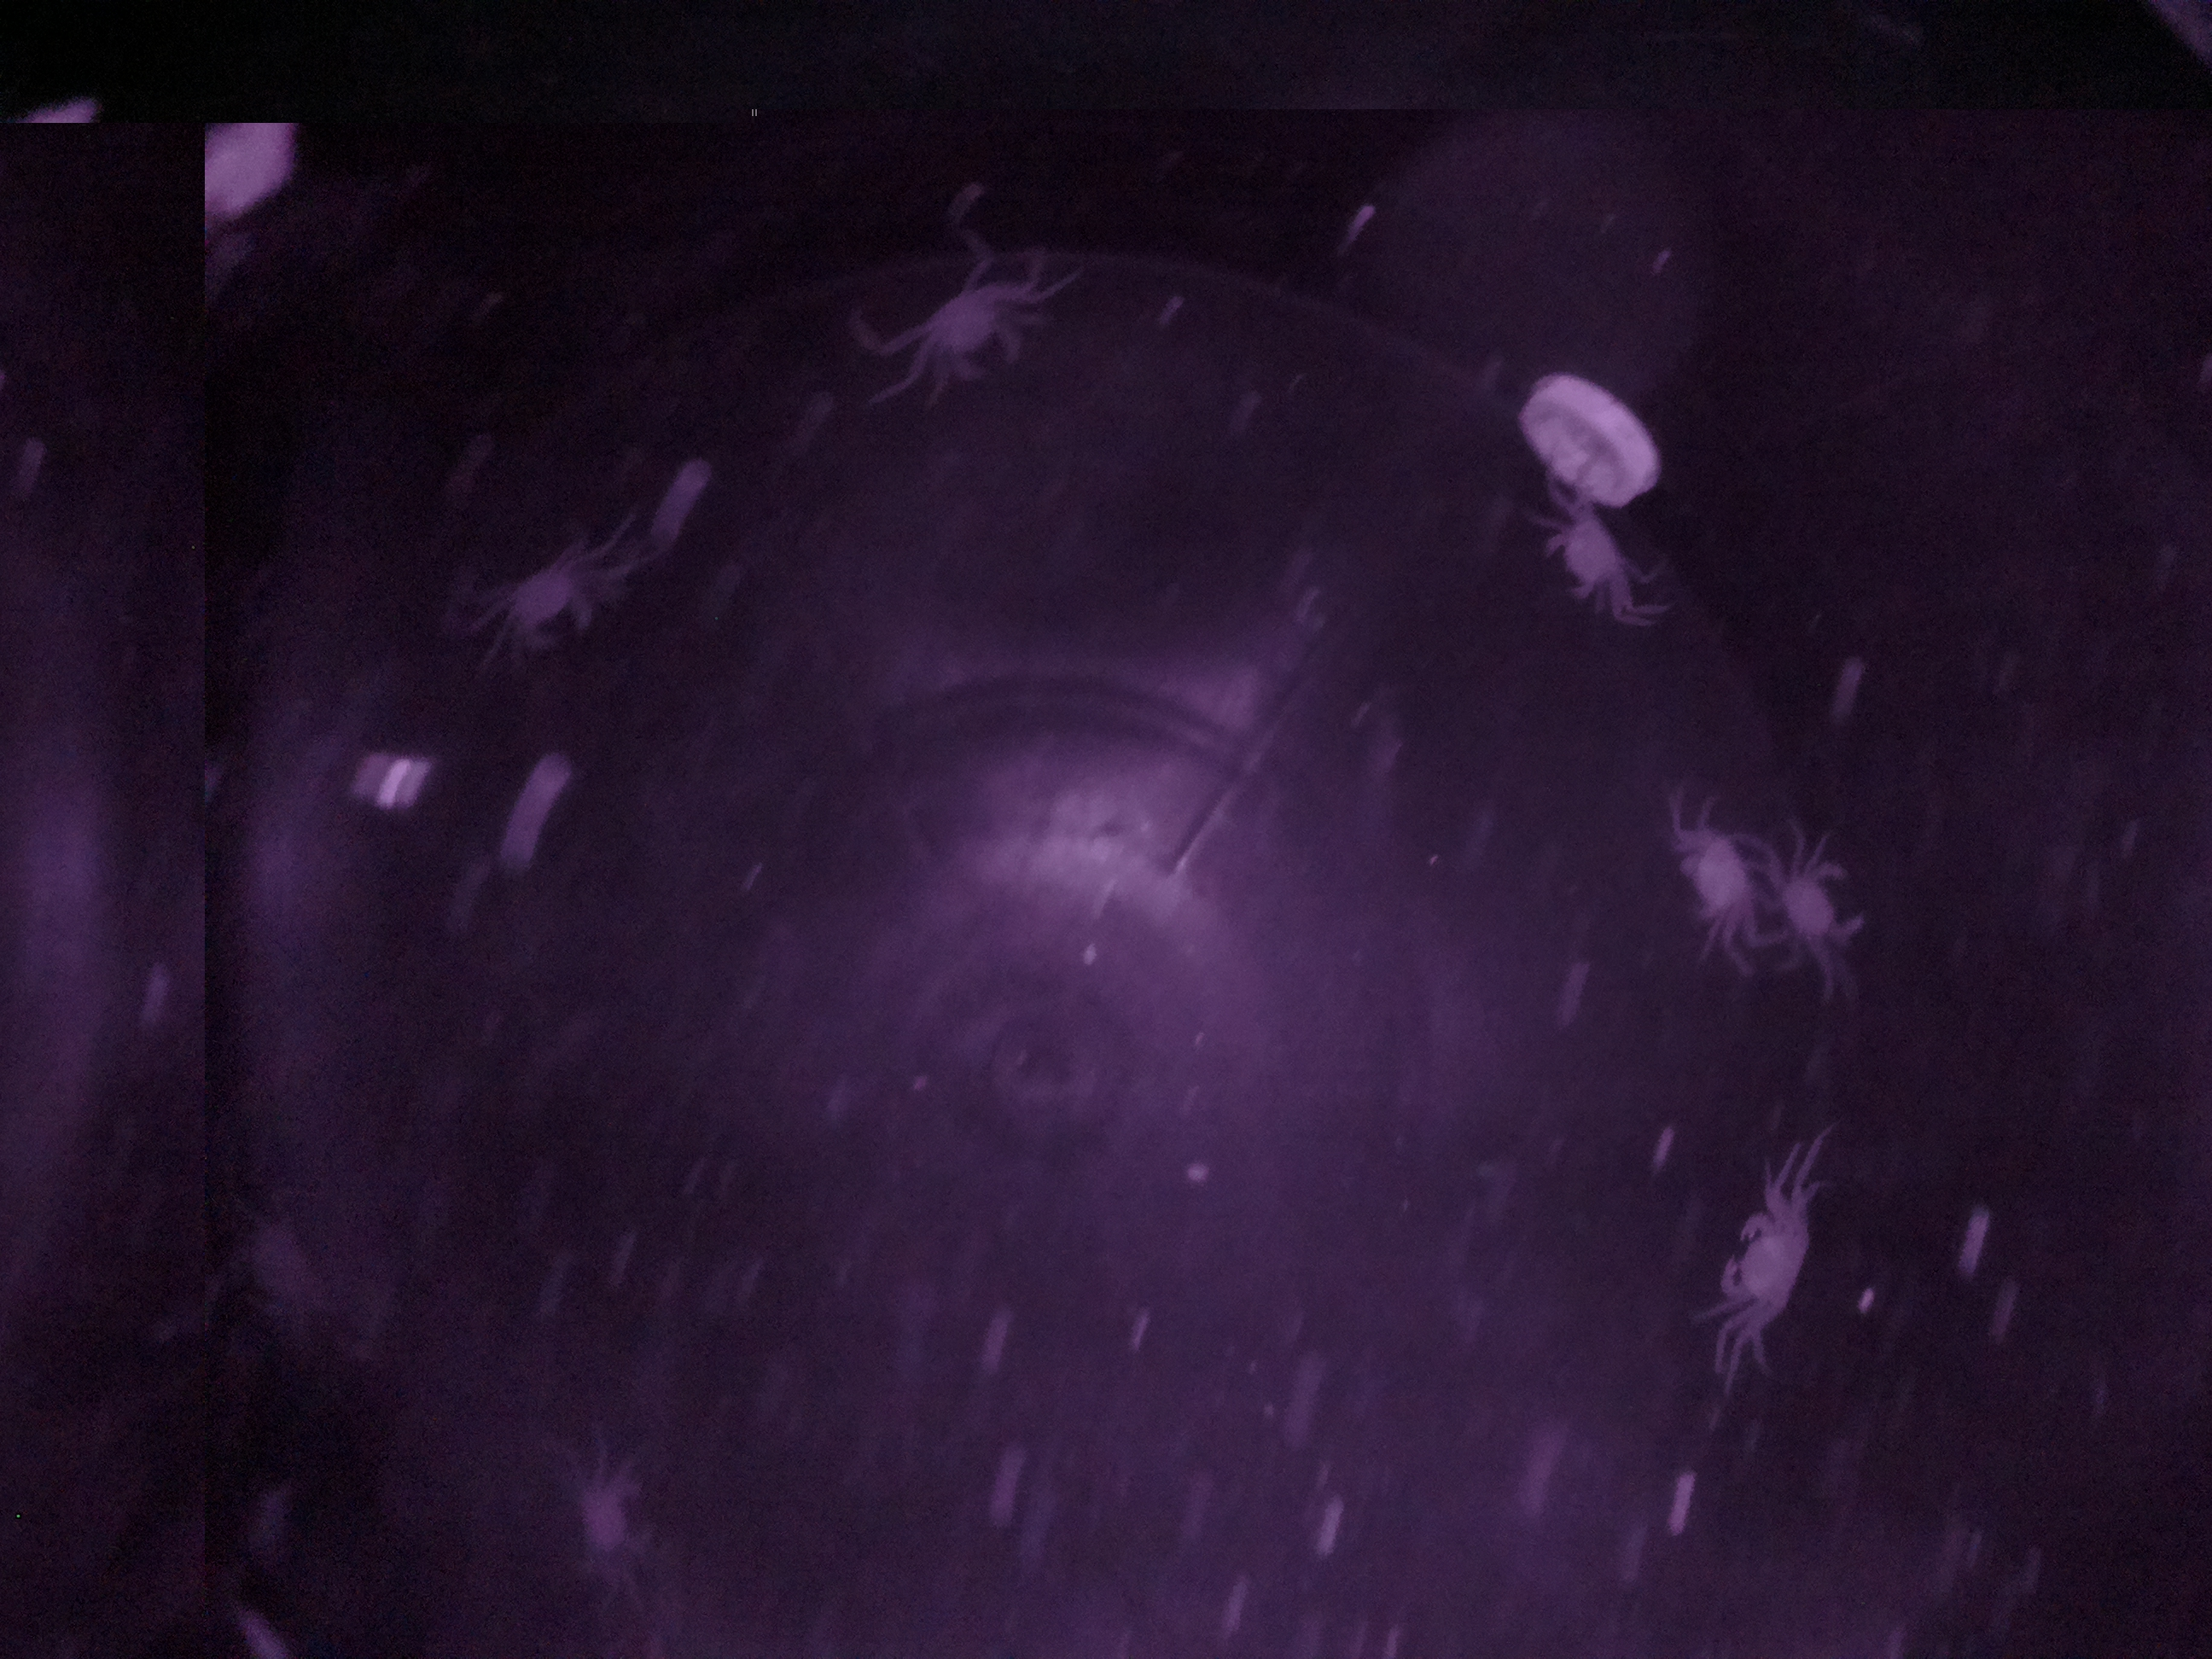Crab: (1458, 1229, 1592, 1377), (230, 575, 354, 720), (1400, 836, 1501, 990), (1515, 882, 1629, 1012), (1282, 530, 1395, 660)
